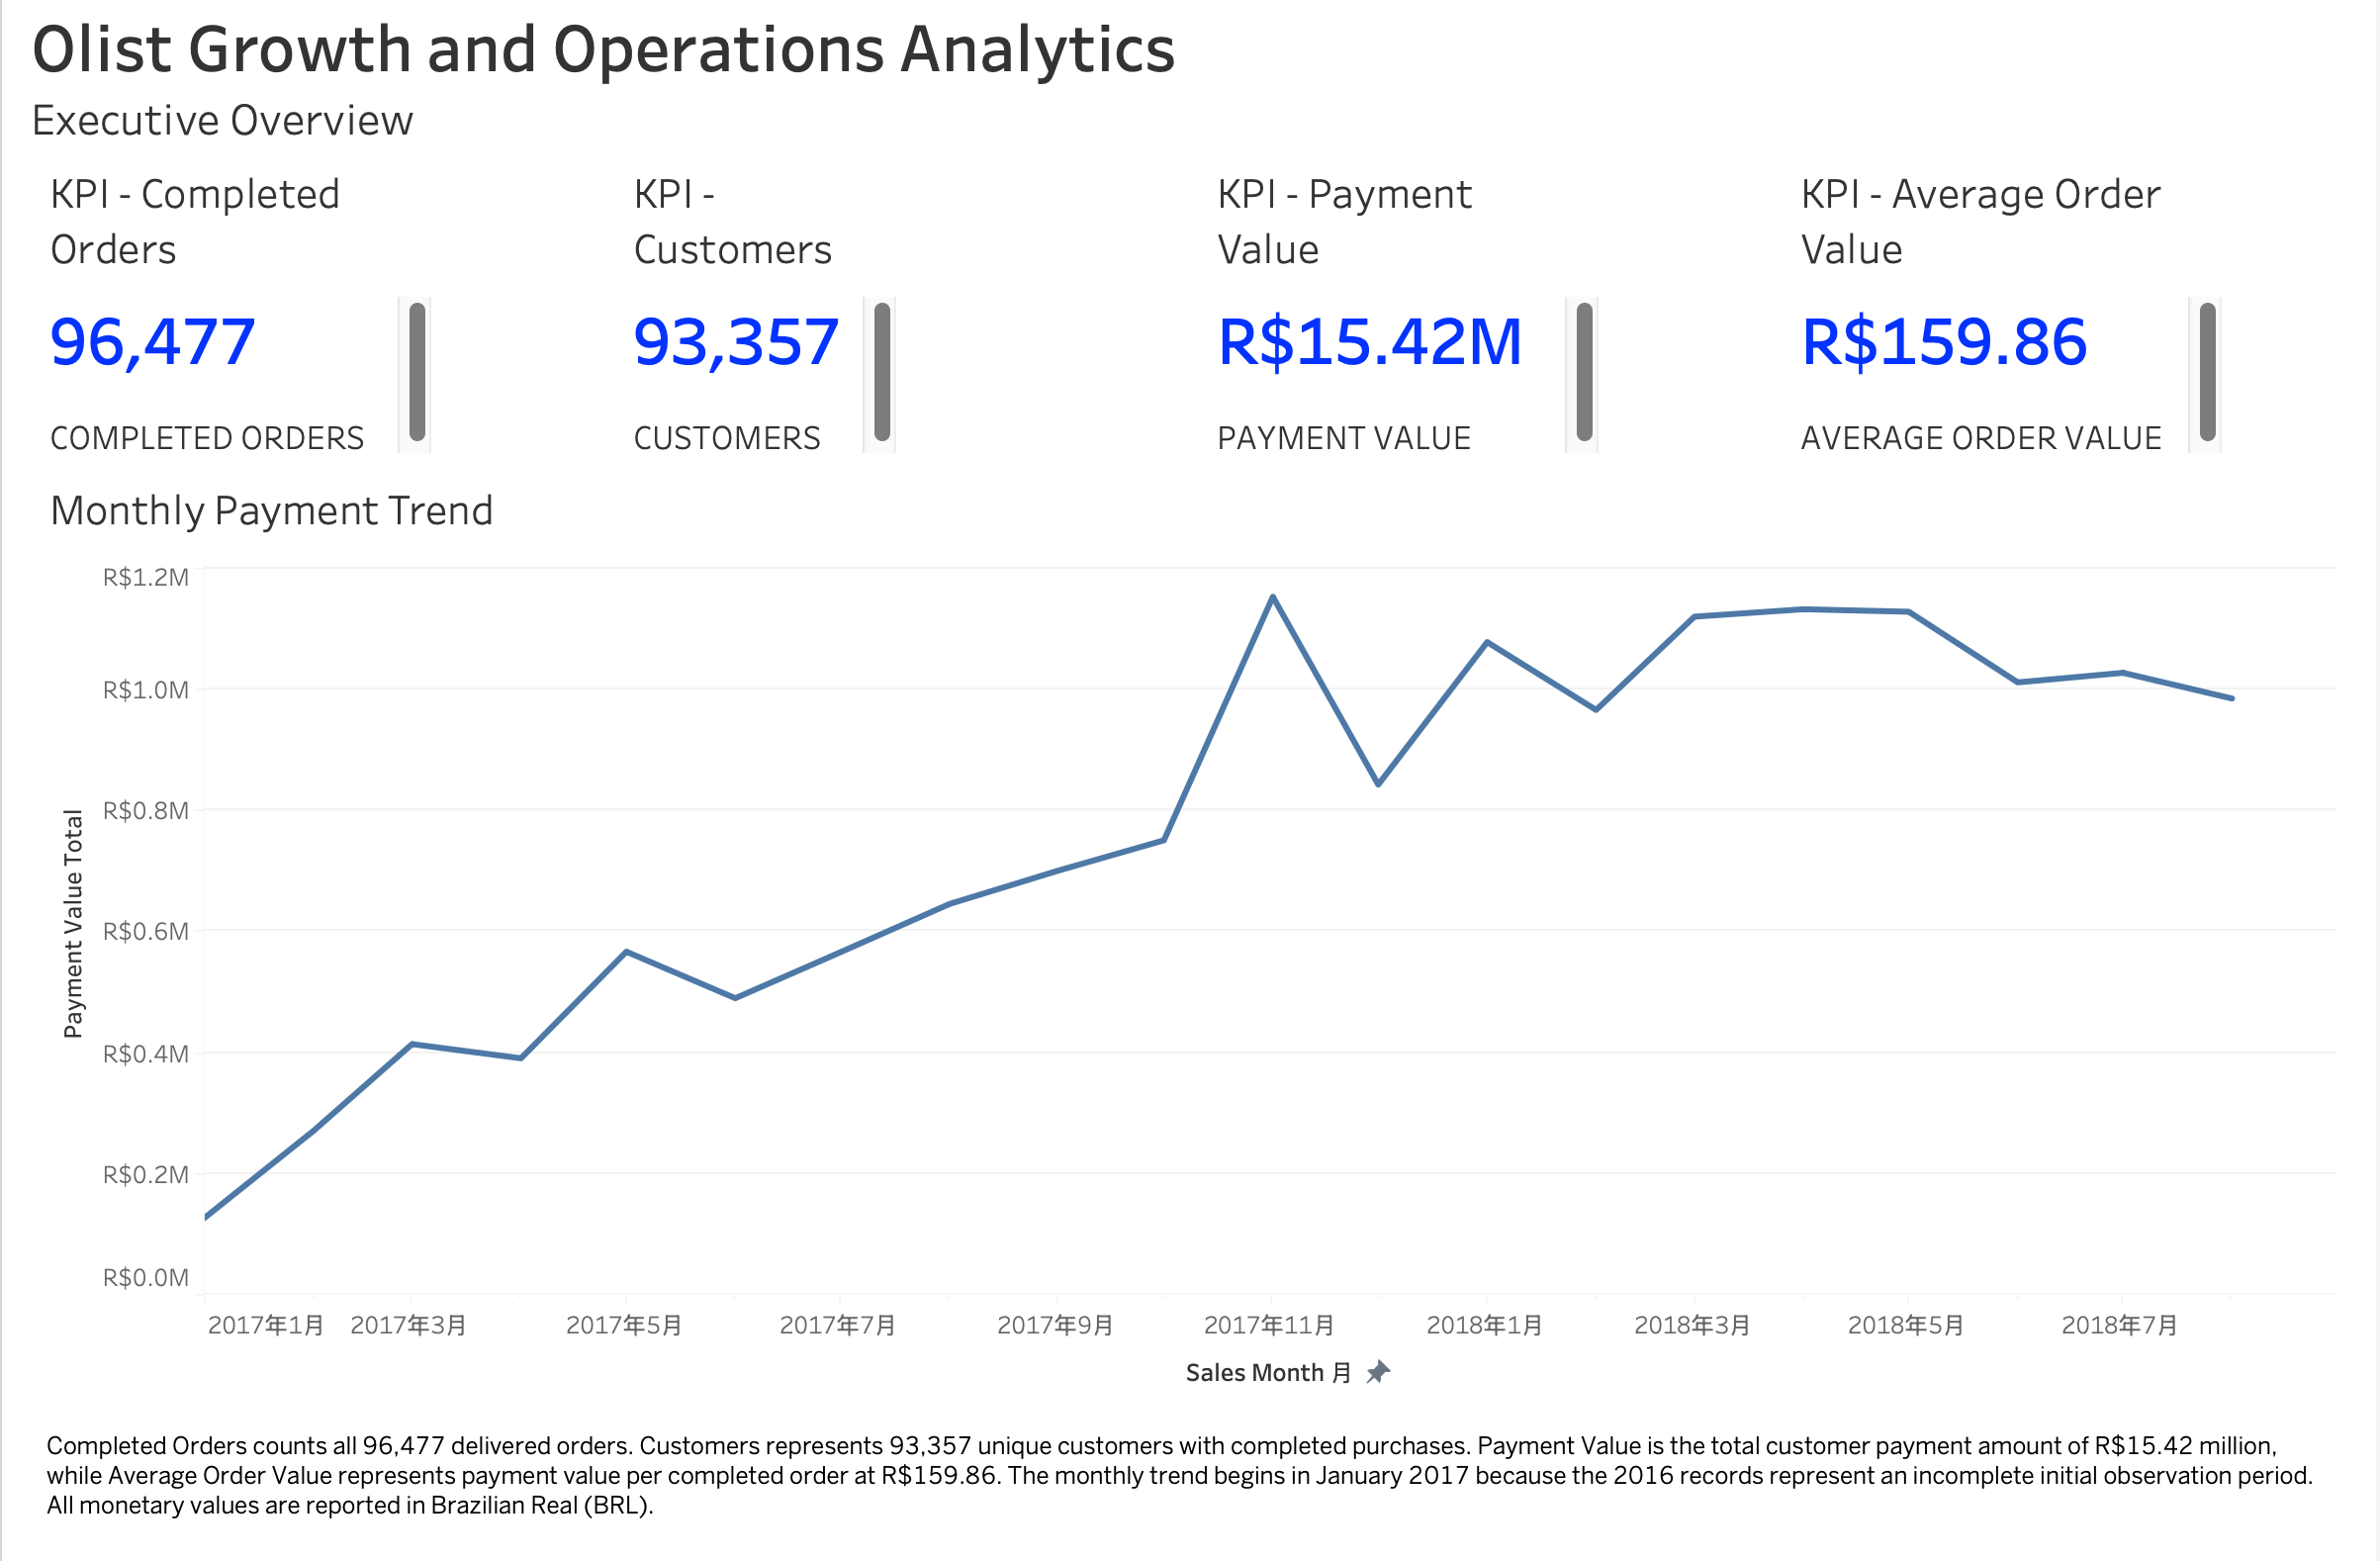

The page's visual inventory and layout, read from the dashboard file:
{"tool":"tableau","page":{"name":"Executive Overview","canvas":[1200,800],"ordinal":1},"visuals":[{"type":"title","box":[8,8,1184,81]},{"type":"worksheet","title":"KPI - Completed Orders","mark":"Automatic","box":[20,90,275,150]},{"type":"worksheet","title":"KPI - Customers","mark":"Automatic","box":[315,90,275,150]},{"type":"worksheet","title":"KPI - Payment Value","mark":"Automatic","box":[610,90,275,150]},{"type":"worksheet","title":"KPI - Average Order Value","mark":"Automatic","box":[905,90,275,150]},{"type":"worksheet","title":"Monthly Payment Trend","mark":"Line","rows":["payment_value_total"],"cols":["sales_month"],"box":[20,250,1160,470]},{"type":"text","box":[20,735,1160,45]}]}

Visuals, with their boxes in screenshot pixels (x1, y1, x2, y2), scaled from the page's 1200x800 canvas onto the 2380x1561 screenshot:
title: l=16, t=16, r=2364, b=174
"KPI - Completed Orders" worksheet: l=40, t=176, r=585, b=468
"KPI - Customers" worksheet: l=625, t=176, r=1170, b=468
"KPI - Payment Value" worksheet: l=1210, t=176, r=1755, b=468
"KPI - Average Order Value" worksheet: l=1795, t=176, r=2340, b=468
"Monthly Payment Trend" worksheet (Line marks): l=40, t=488, r=2340, b=1405
text: l=40, t=1434, r=2340, b=1522
